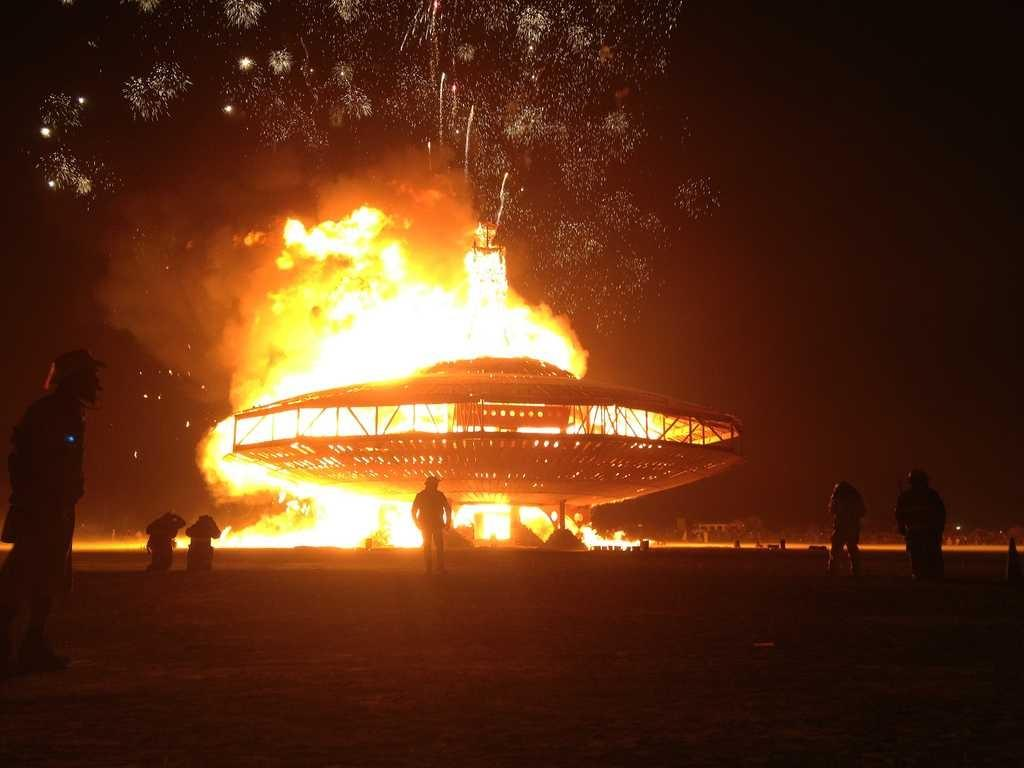fire: (302, 304, 520, 362), (280, 486, 406, 540), (340, 230, 440, 286), (390, 266, 404, 268)
